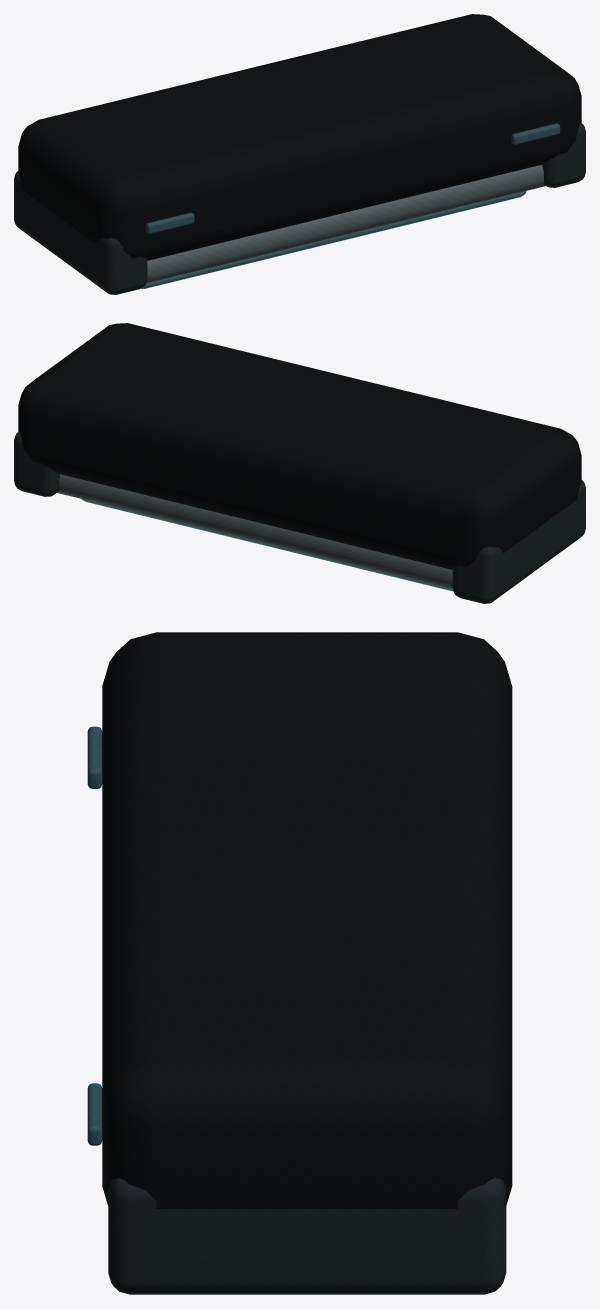
Rendered from CeilingLight.fbx.
The picture shows the model from 3 angles, top to bottom: view 1: azimuth 30°, elevation 25°; view 2: azimuth 150°, elevation 25°; view 3: azimuth 270°, elevation 25°; orthographic projection. The views are drawn at different scales.
Parts seen in each view (by area): view 1: CeilingLight_Mesh; view 2: CeilingLight_Mesh; view 3: CeilingLight_Mesh.
Part boxes in pixels (left/top/right/bottom): CeilingLight_Mesh: left=14, top=14, right=585, bottom=294; CeilingLight_Mesh: left=14, top=323, right=585, bottom=603; CeilingLight_Mesh: left=87, top=632, right=512, bottom=1294.
Size of the model in its own units: 92 by 23.6 by 35.2.
6 materials, 6 textured.
